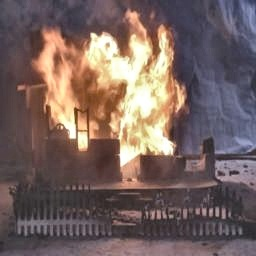fire: (41, 14, 189, 151)
